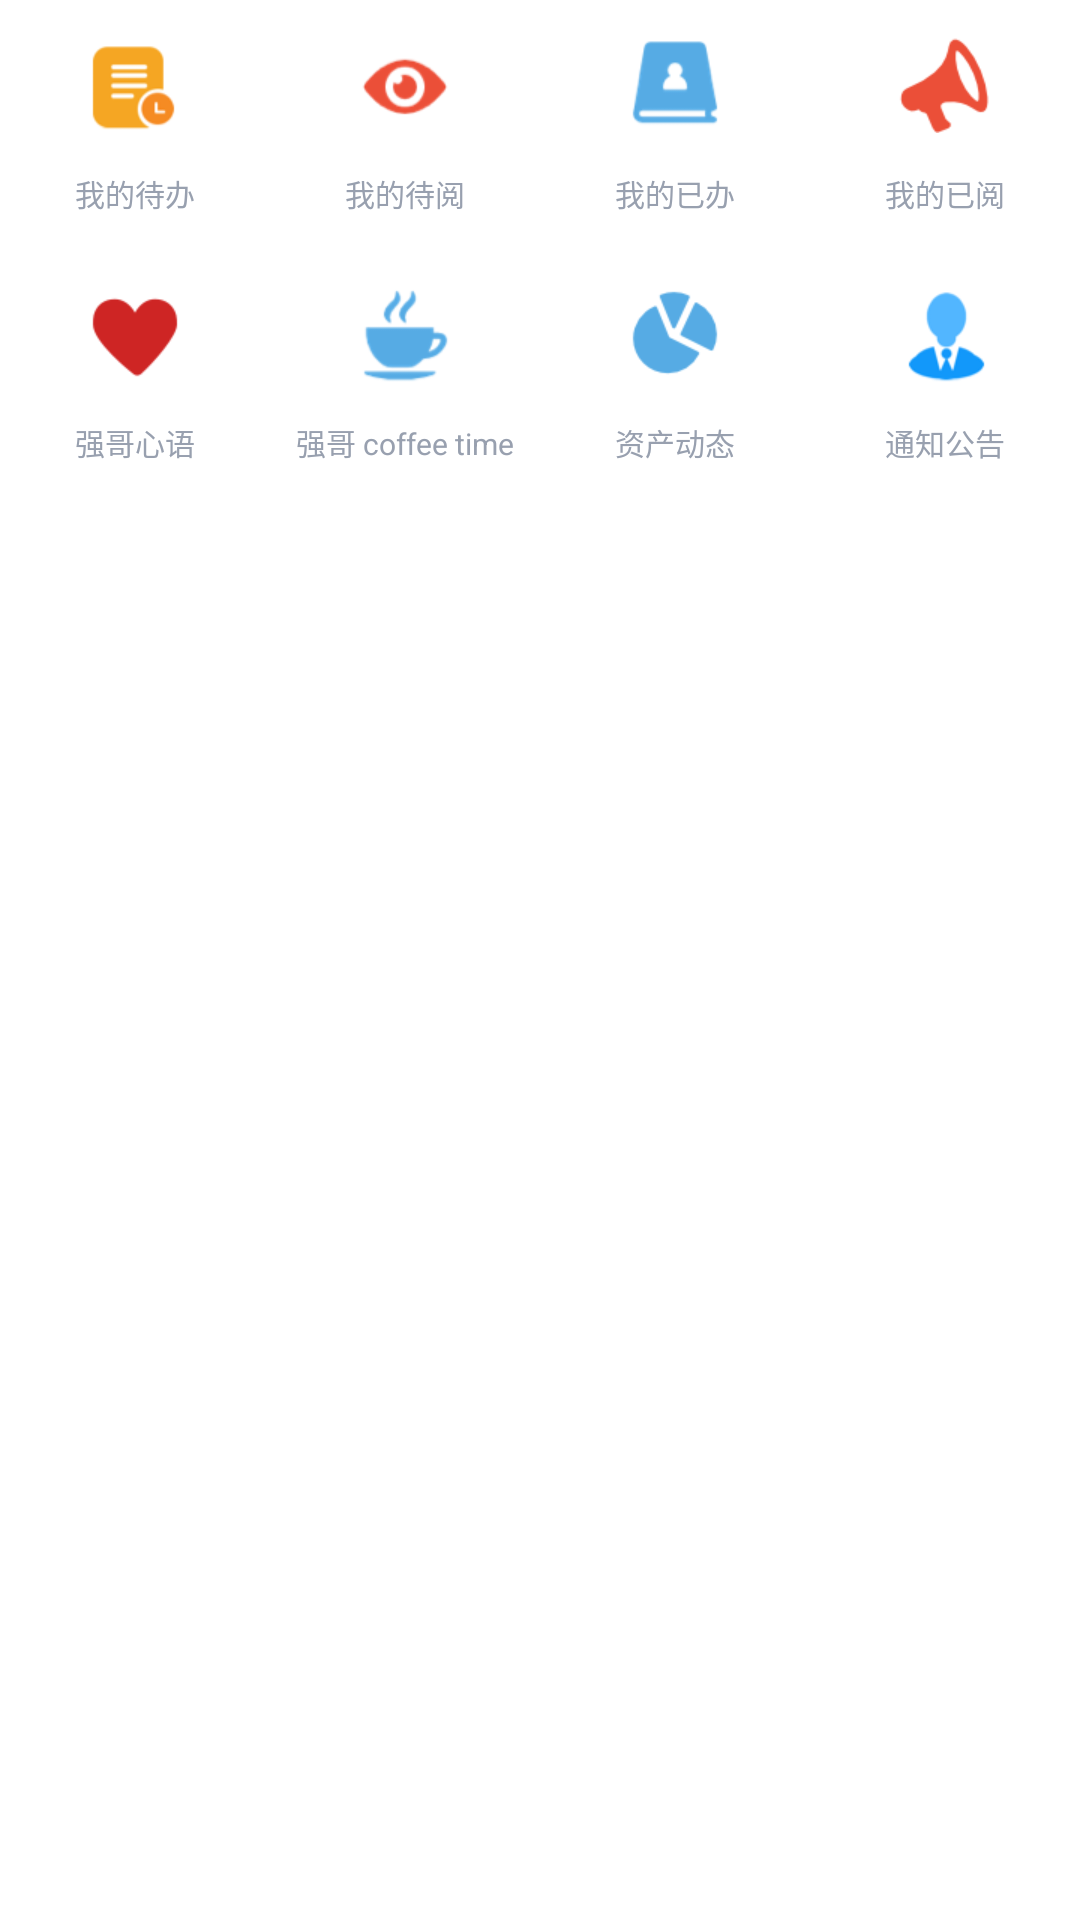

Where icons sit on this 1080*1920 app screen, as bbox(x1, y1, x2, y2):
home boss: bbox(908, 292, 985, 381)
home coffe: bbox(364, 291, 448, 381)
home daiban: bbox(92, 46, 175, 129)
home daiyue: bbox(363, 59, 447, 115)
home info: bbox(900, 38, 989, 133)
home zichan: bbox(632, 291, 717, 374)
